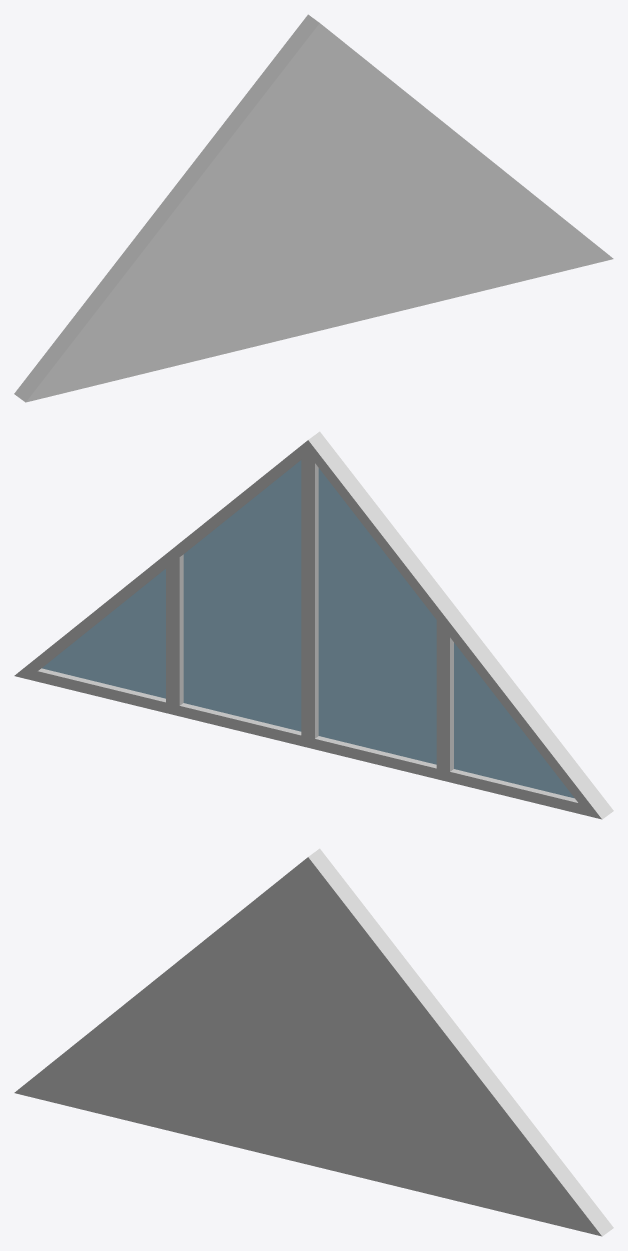
Rendered from FourRoofFrontWindow.fbx.
3 renders of one model, top to bottom at view 1: azimuth 30°, elevation 25°; view 2: azimuth 150°, elevation 25°; view 3: azimuth 330°, elevation 25°, orthographic.
Visible parts, largest first — view 1: FourRoofFrontWindow; view 2: FourRoofFrontWindow; view 3: FourRoofFrontWindow.
Part boxes in pixels (left/top/right/bottom): FourRoofFrontWindow: left=14, top=14, right=613, bottom=402; FourRoofFrontWindow: left=14, top=431, right=613, bottom=819; FourRoofFrontWindow: left=14, top=848, right=613, bottom=1236.
Size of the model in its own units: 870 by 435 by 30.
